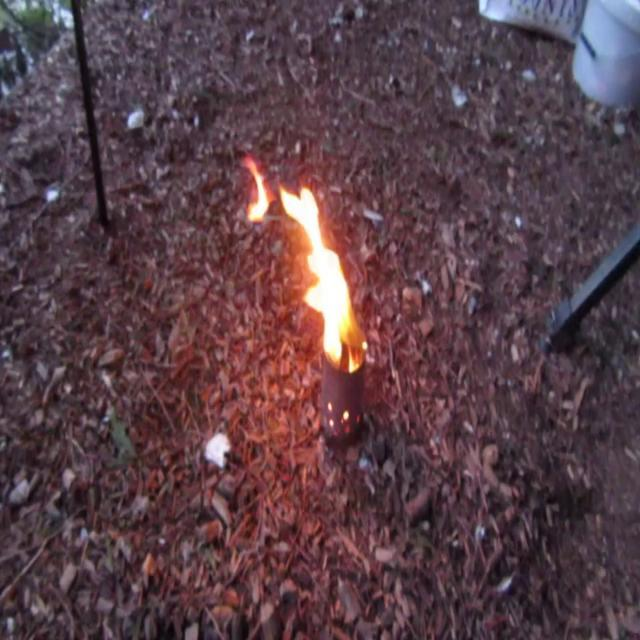Fire: (246, 176, 374, 362)
